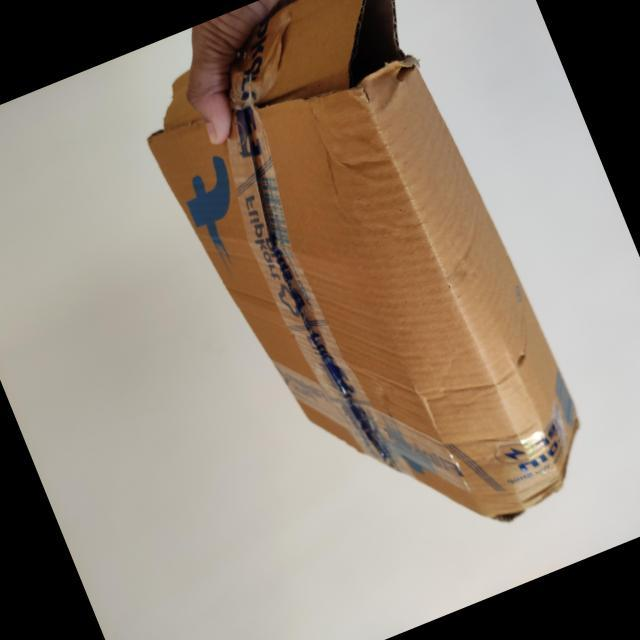cardboxes: (144, 0, 585, 525)
